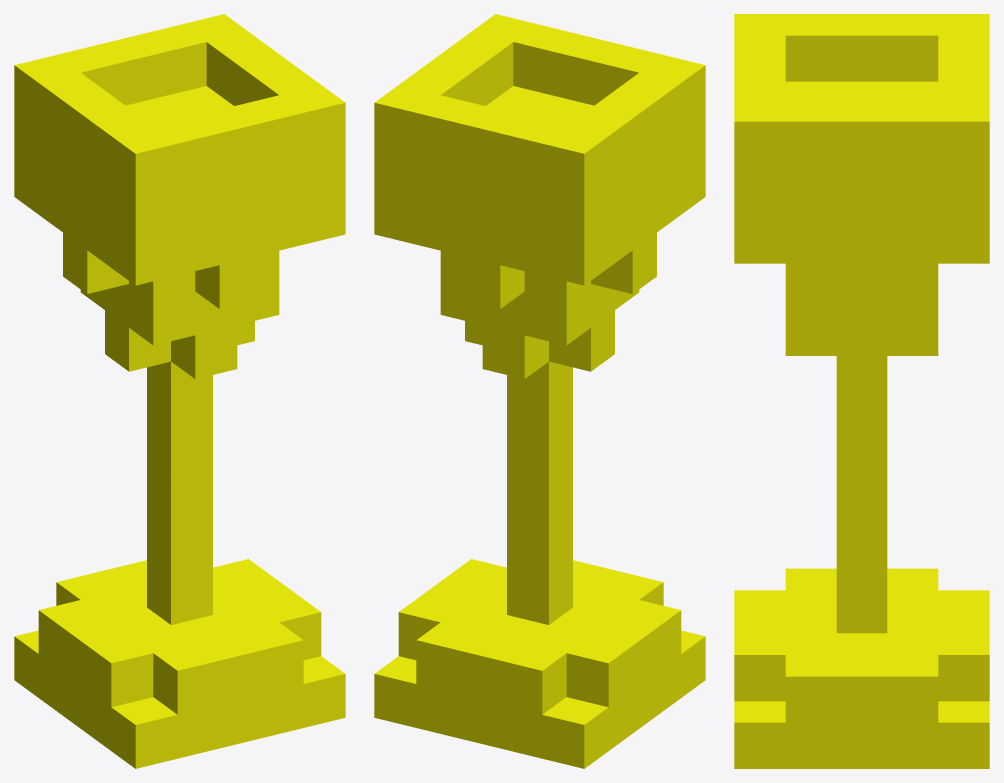
File: voxel-cathedral-grail.glb
3 renders of one model, left to right at view 1: azimuth 30°, elevation 25°; view 2: azimuth 150°, elevation 25°; view 3: azimuth 270°, elevation 25°, orthographic. The views are drawn at different scales.
Visible parts, largest first — view 1: VS_Cathedral_Props_Grail_001; view 2: VS_Cathedral_Props_Grail_001; view 3: VS_Cathedral_Props_Grail_001.
Part boxes in pixels (box(x1,y1,x2,y2)): VS_Cathedral_Props_Grail_001: box(14, 14, 345, 768); VS_Cathedral_Props_Grail_001: box(374, 14, 705, 768); VS_Cathedral_Props_Grail_001: box(734, 14, 989, 768).
Bounding box in the file's own units: 0.4999 × 1.4 × 0.4999.
